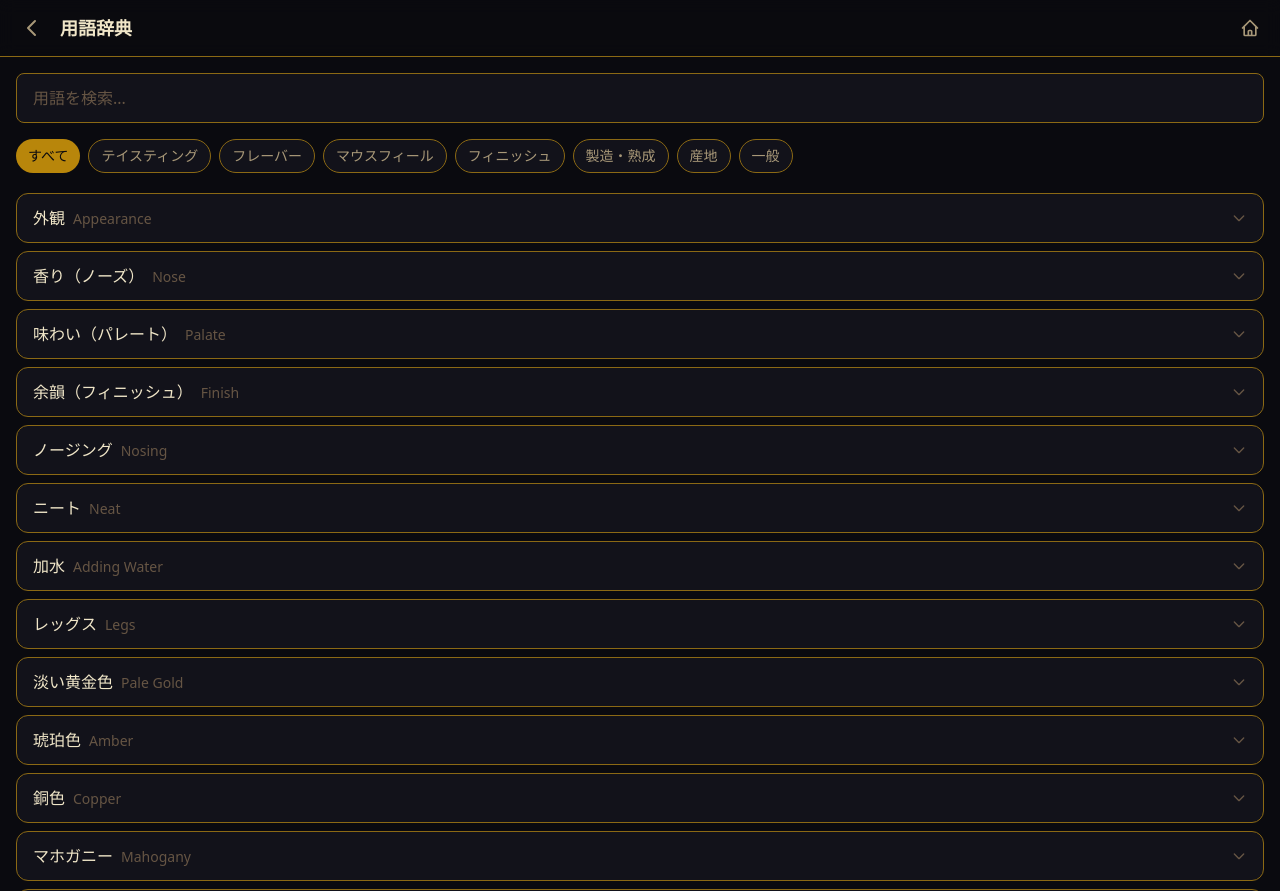
Test: GlossaryView › 存在しない語で検索すると noResults メッセージが表示される
Type "zzzznotexist99999" into the search field with placeholder "用語を検索..." at (640, 98), box [16,73,1264,123]
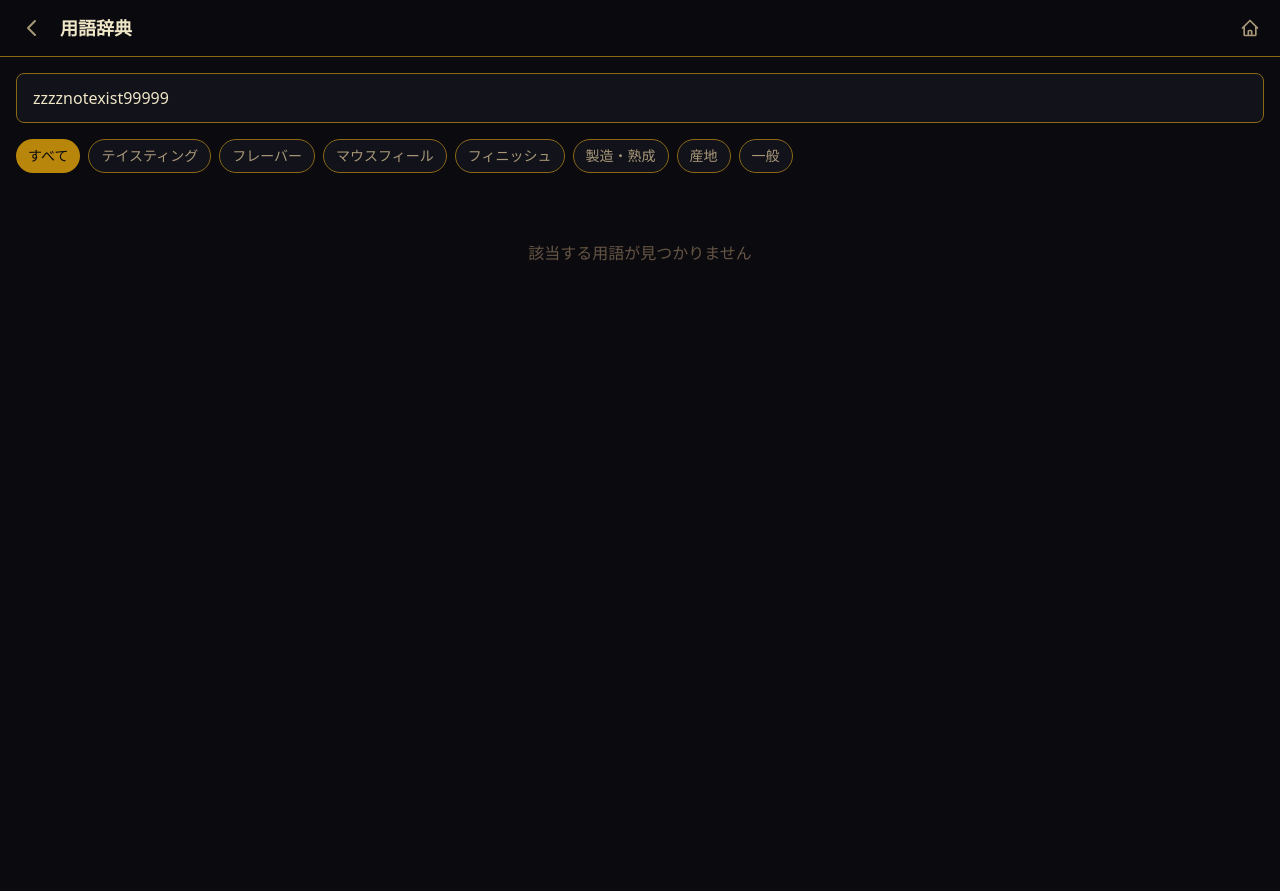
Expected: the text "該当する用語が見つかりません" is shown, [528,242,752,264]
